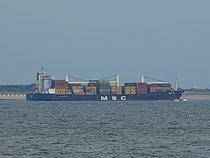Ship: (24, 66, 191, 106)
